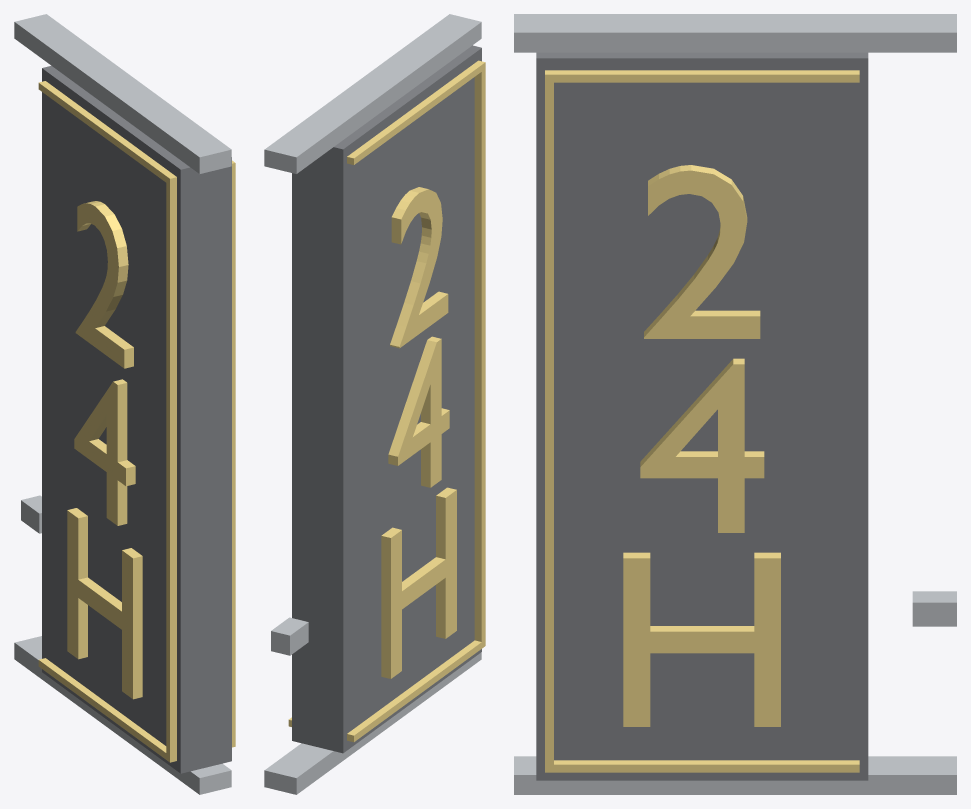
File: neon_24h.glb
3 renders of one model, left to right at view 1: azimuth 30°, elevation 25°; view 2: azimuth 150°, elevation 25°; view 3: azimuth 270°, elevation 25°, orthographic. The views are drawn at different scales.
Parts seen in each view (by area): view 1: neon_24h; view 2: neon_24h; view 3: neon_24h.
Part boxes in pixels (<box>): neon_24h: <box>14,14,235,794</box>; neon_24h: <box>264,14,485,794</box>; neon_24h: <box>514,14,956,794</box>.
Size of the model in its own units: 0.23 by 1.9 by 1.
